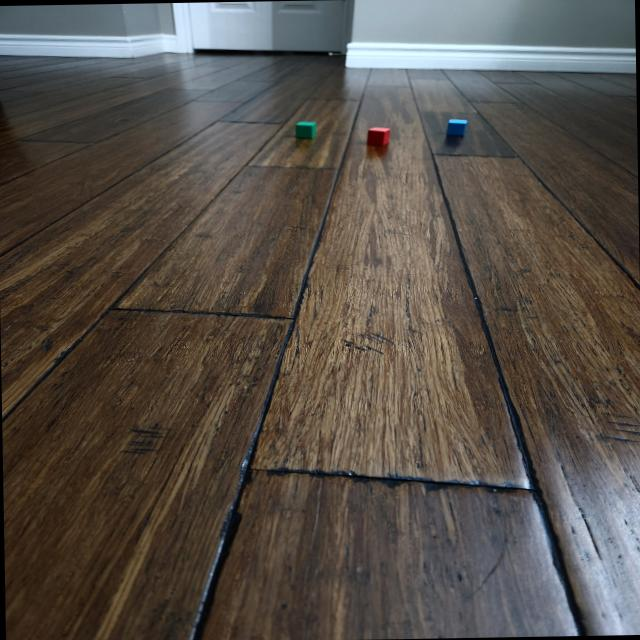bluecube: (445, 118, 468, 138)
green cube: (295, 120, 316, 140), (367, 126, 390, 144)
